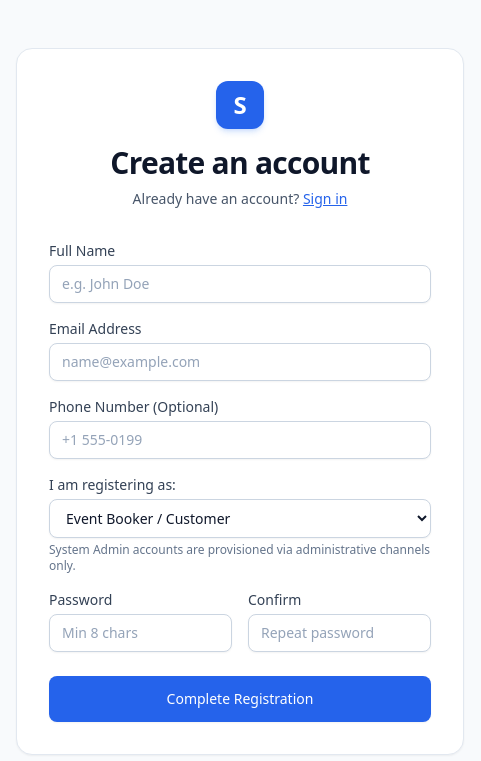
Auth Pages & Validation › validates password mismatch and length in registration
In the field labelled "Full Name": (240, 284) [49,265,431,303], type "Alice Smith"
In the field labelled "Email Address": (240, 362) [49,343,431,381], type "alice@example.com"
In the password field labelled "Password": (140, 633) [49,614,232,652], type "short"
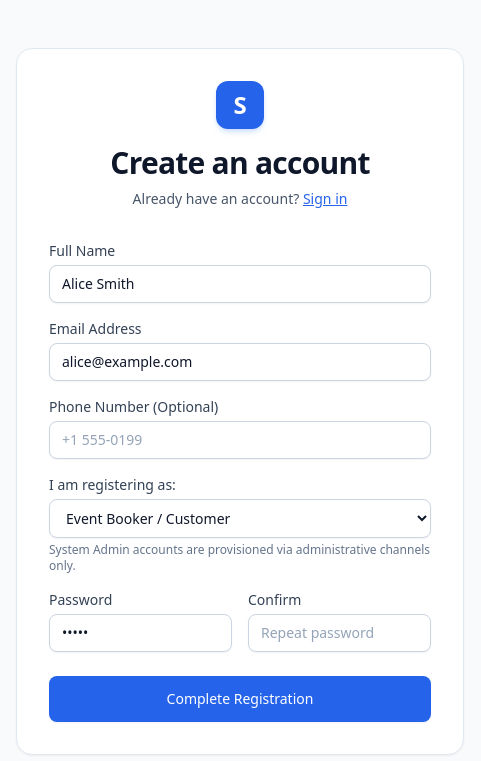
In the password field labelled "Confirm": (340, 633) [248,614,431,652], type "short"
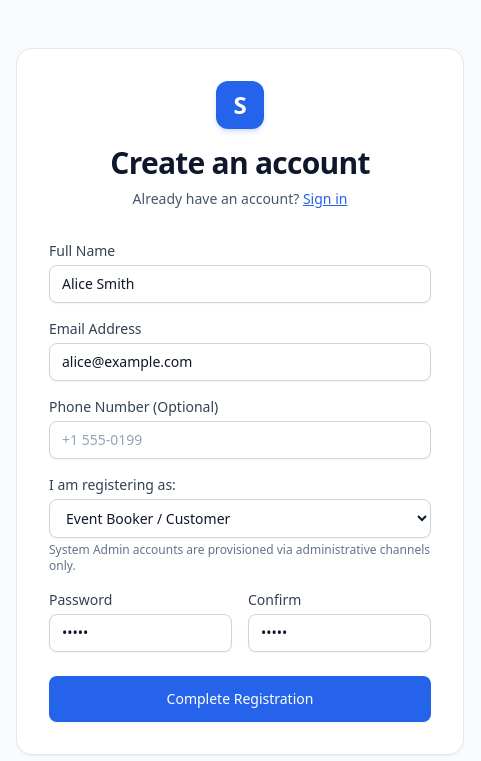
Click the button "Complete Registration": (240, 699) [49,676,431,722]
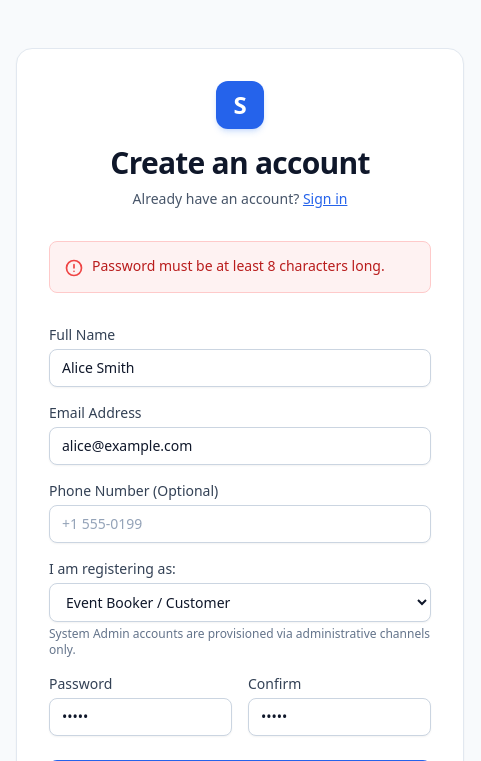
Check: the text "Password must be at least 8 characters long." is shown, box [92,256,385,276]
In the password field labelled "Password": (140, 717) [49,698,232,736], type "Password123!"
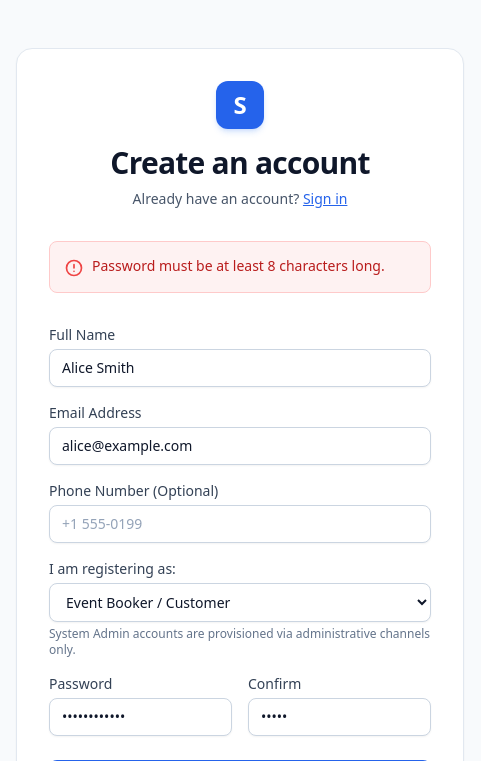
In the password field labelled "Confirm": (340, 717) [248,698,431,736], type "Different123!"
(page scrolled)
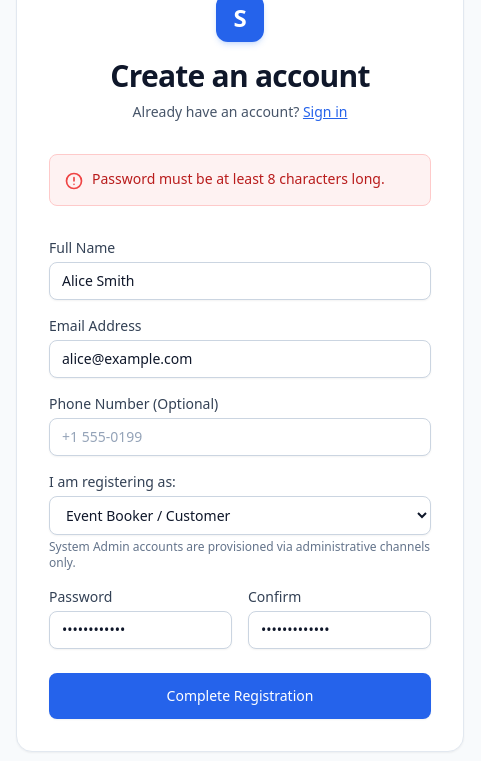
Click the button "Complete Registration": (240, 696) [49,673,431,719]
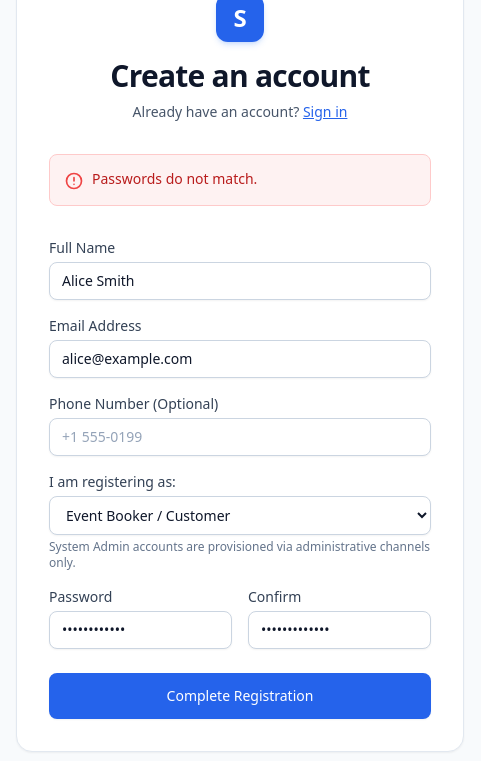
Check: the text "Passwords do not match." is shown, box [92,169,257,189]
